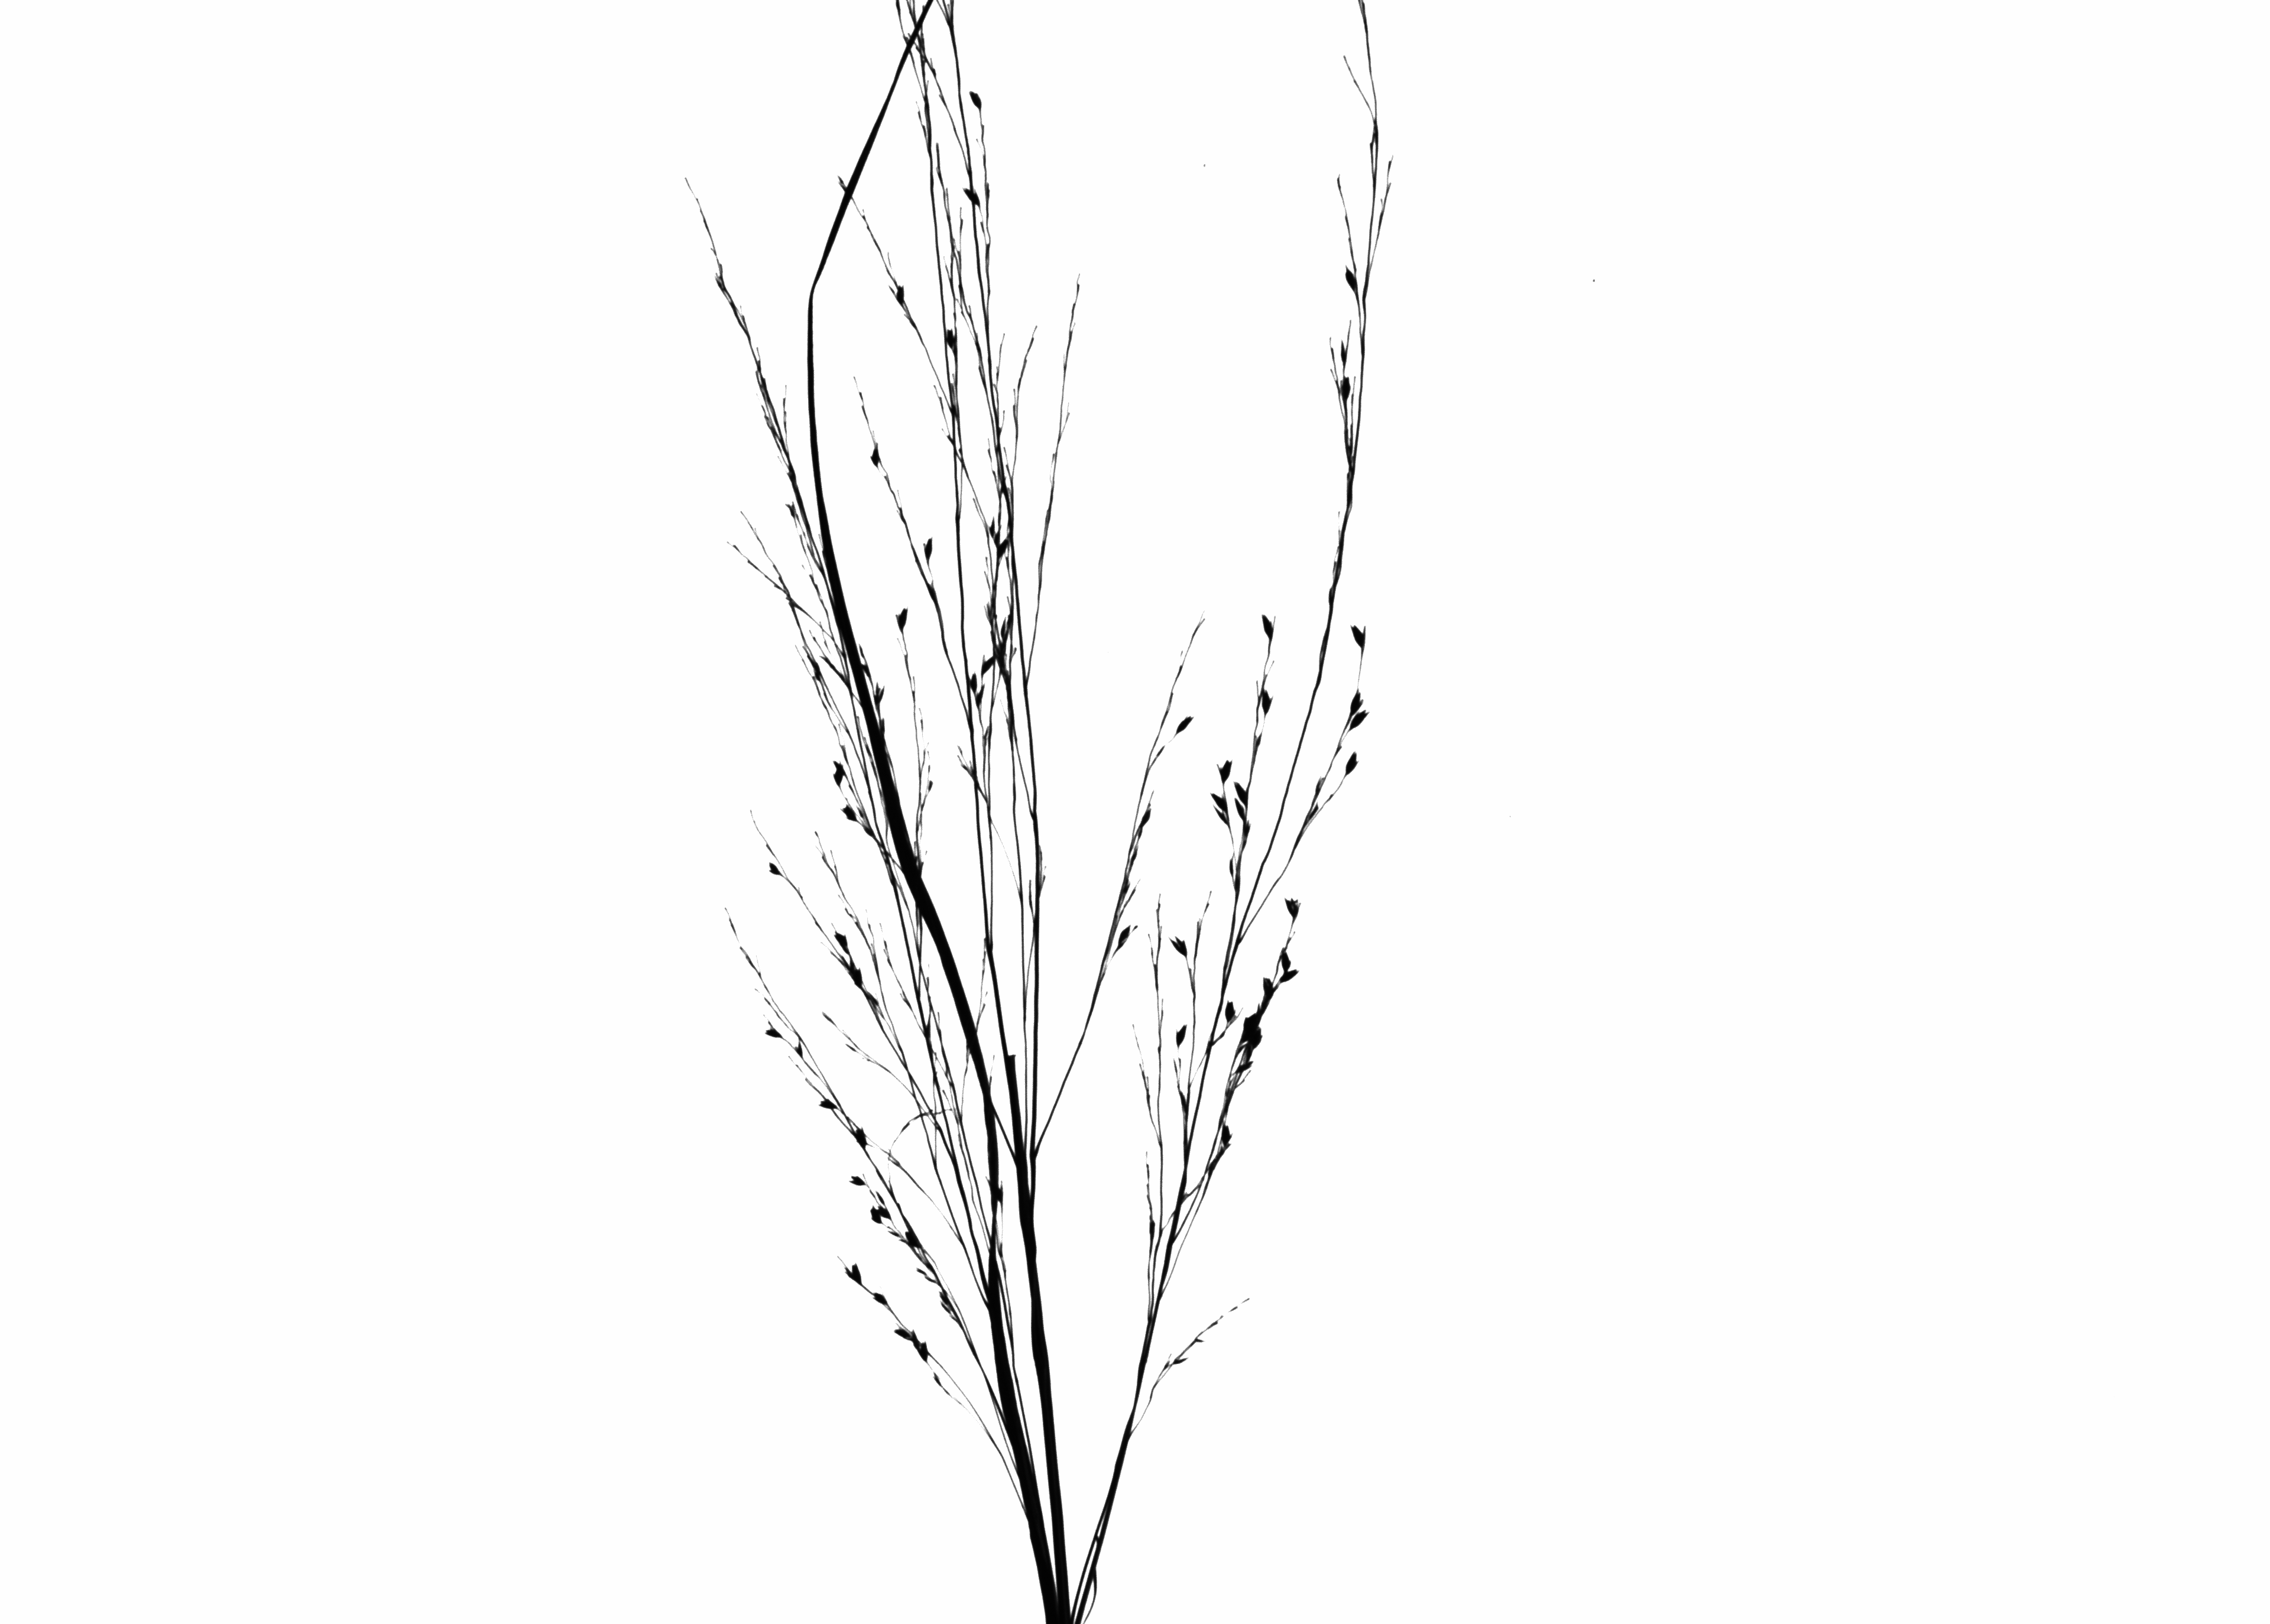seed: (1340, 262, 1363, 295), (1240, 1011, 1261, 1046), (1345, 684, 1368, 715), (846, 960, 867, 991), (1347, 708, 1371, 735), (1347, 620, 1370, 649), (1343, 747, 1363, 779), (1280, 967, 1305, 990), (1208, 805, 1231, 830), (1115, 923, 1132, 953), (1168, 937, 1189, 961), (965, 88, 986, 112), (1175, 712, 1194, 738), (832, 926, 851, 953), (816, 1095, 842, 1114), (1259, 612, 1277, 640), (1282, 898, 1303, 921), (1208, 791, 1231, 812), (1257, 977, 1277, 1002), (1219, 1121, 1234, 1151), (895, 603, 911, 633), (853, 1125, 870, 1151), (1338, 376, 1354, 404), (997, 533, 1013, 561), (962, 188, 983, 209), (902, 1229, 923, 1250), (1233, 1058, 1255, 1077), (1233, 780, 1252, 803), (832, 758, 851, 780), (1173, 1023, 1190, 1048), (1261, 689, 1275, 719), (848, 1260, 863, 1287), (782, 503, 802, 524), (763, 859, 784, 879), (870, 1290, 891, 1309), (840, 801, 858, 824), (890, 1325, 913, 1343), (1336, 339, 1350, 367), (795, 1033, 809, 1062), (1278, 946, 1294, 970), (923, 533, 935, 564), (870, 441, 883, 473), (830, 765, 846, 789), (1224, 998, 1238, 1025), (1219, 758, 1233, 784), (981, 654, 999, 675), (1139, 803, 1155, 826), (761, 1025, 784, 1040), (846, 1172, 867, 1188), (1234, 798, 1247, 824), (944, 323, 957, 350), (895, 283, 907, 309), (974, 685, 988, 708), (920, 1339, 934, 1362), (869, 1209, 884, 1229), (876, 684, 886, 712), (874, 1188, 888, 1207), (993, 524, 1002, 552), (876, 1206, 893, 1220), (911, 1327, 920, 1355), (969, 671, 979, 692), (988, 513, 997, 536)
